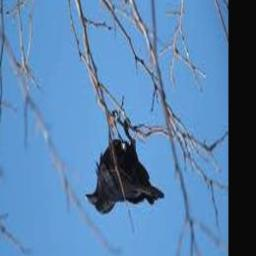Crow: (84, 119, 163, 216)
